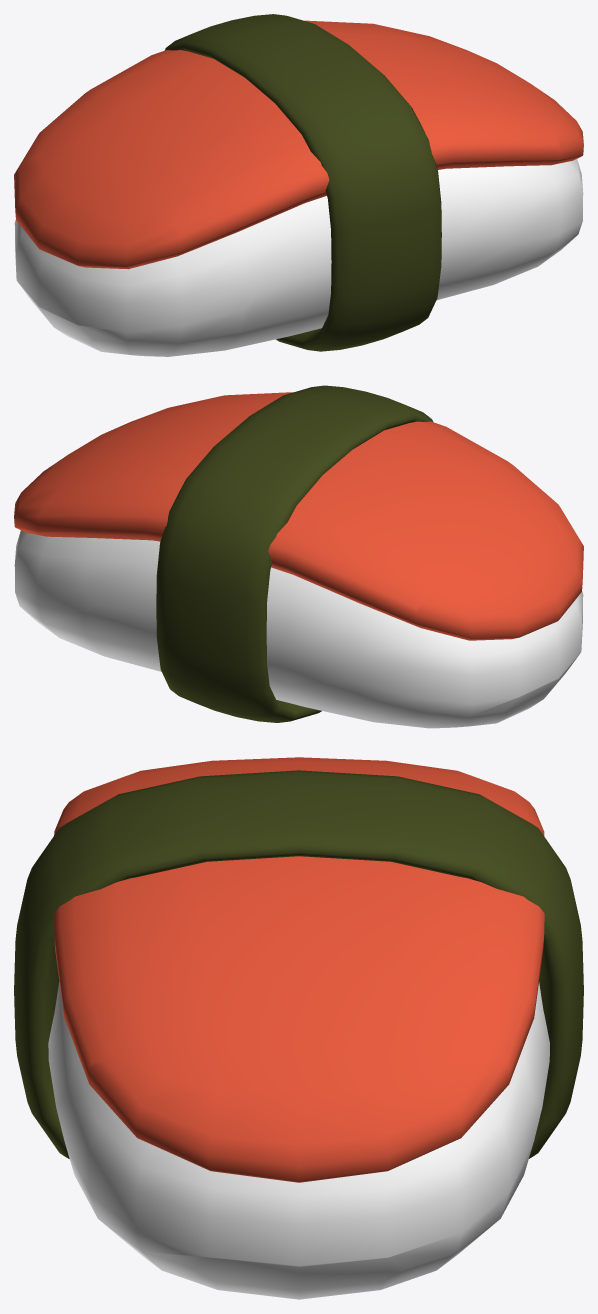
The model's file is tamagotchi_sushi3.fbx.
The picture shows the model from 3 angles, top to bottom: view 1: azimuth 30°, elevation 25°; view 2: azimuth 150°, elevation 25°; view 3: azimuth 270°, elevation 25°; orthographic projection. The views are drawn at different scales.
Parts seen in each view (by area): view 1: Plane.005, Plane.004, Plane.006; view 2: Plane.005, Plane.004, Plane.006; view 3: Plane.005, Plane.006, Plane.004.
Boxes of the visible parts, <box> form: Plane.005: <box>14,20,583,269</box>; Plane.004: <box>14,159,583,356</box>; Plane.006: <box>165,14,441,351</box>; Plane.005: <box>14,392,583,640</box>; Plane.004: <box>14,530,583,728</box>; Plane.006: <box>156,385,433,722</box>; Plane.005: <box>54,757,544,1182</box>; Plane.006: <box>14,770,583,1158</box>; Plane.004: <box>48,982,549,1299</box>.
Bounding box in the file's own units: 210 × 102 × 136.
